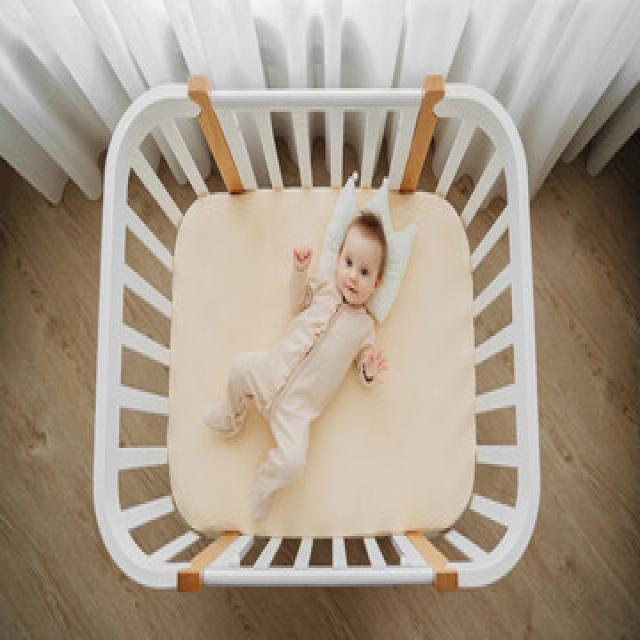baby: (203, 181, 391, 520)
crib: (91, 69, 542, 592)
